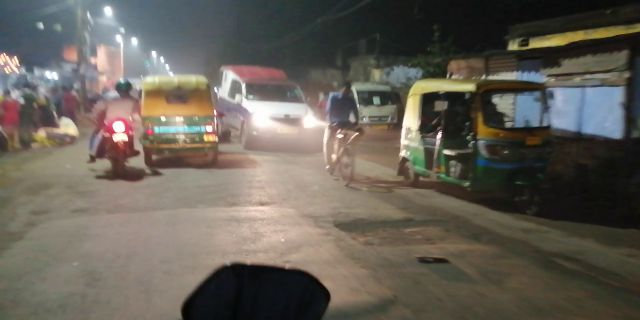Autorickshaw: (405, 73, 560, 207), (140, 75, 223, 166)
Cycle: (327, 77, 367, 191)
Motorbike: (95, 77, 136, 175)
Van: (229, 59, 319, 153)
